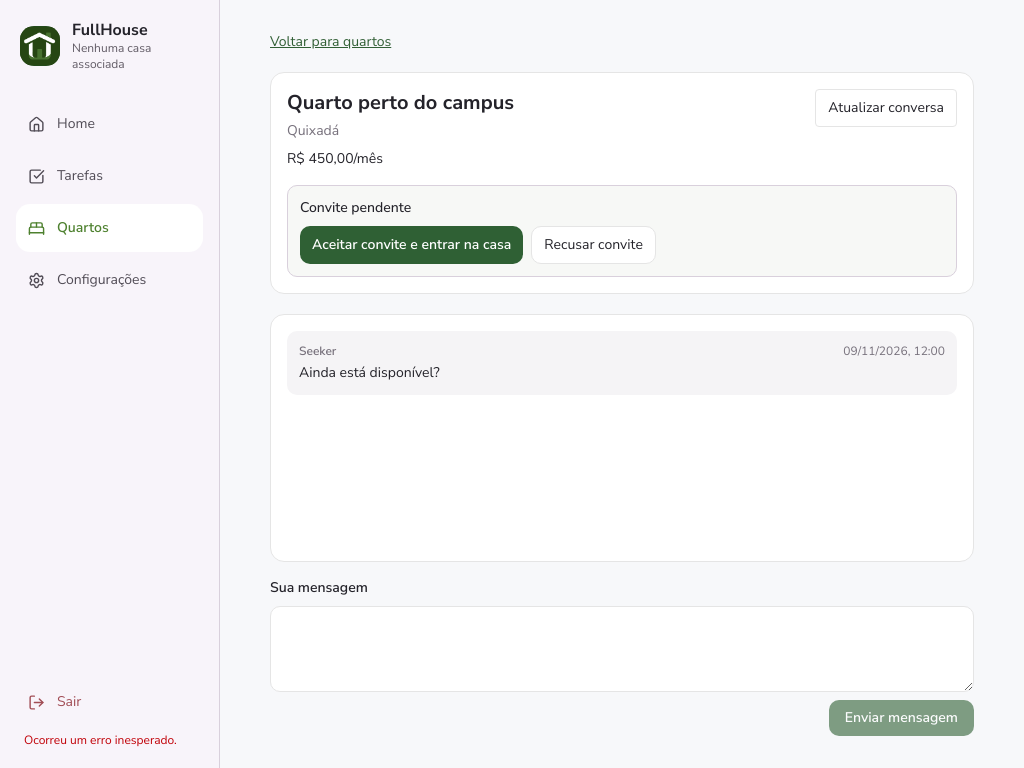
Scenario: RoomNegotiationPage › handles an invited user's RECUSADO decision
The image size is (1024, 768).
Click the button "Recusar convite". click: [594, 245]
box: 531,226 -> 656,264
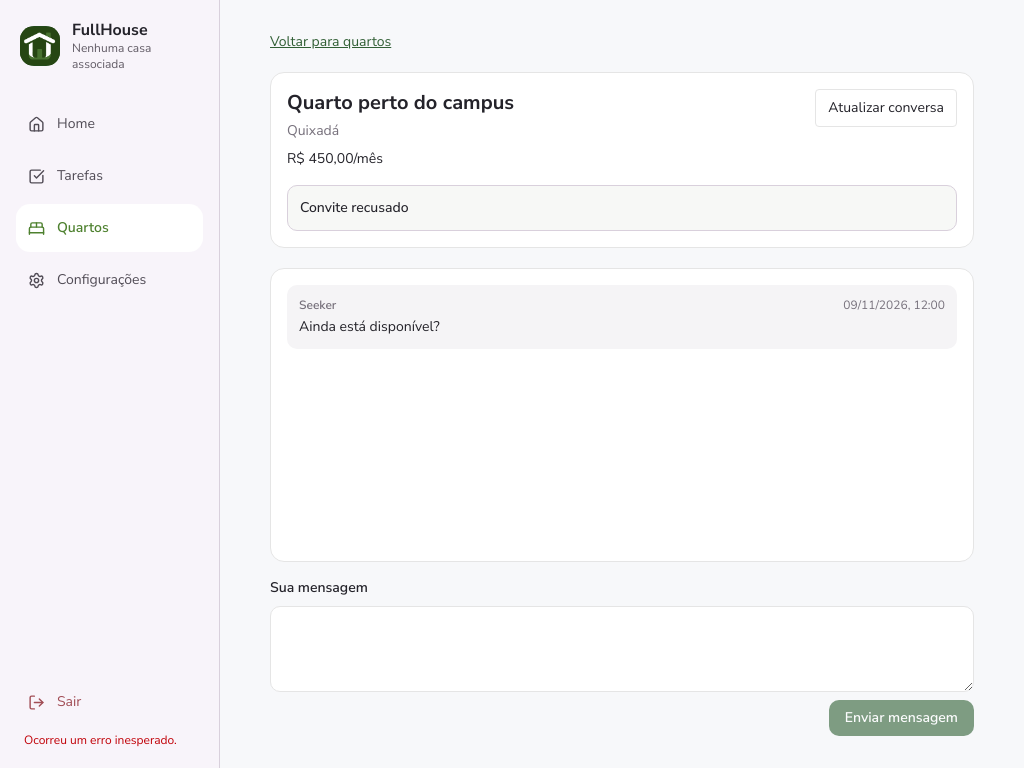
Now the text "Convite recusado" is shown, box 300,198 -> 408,217
